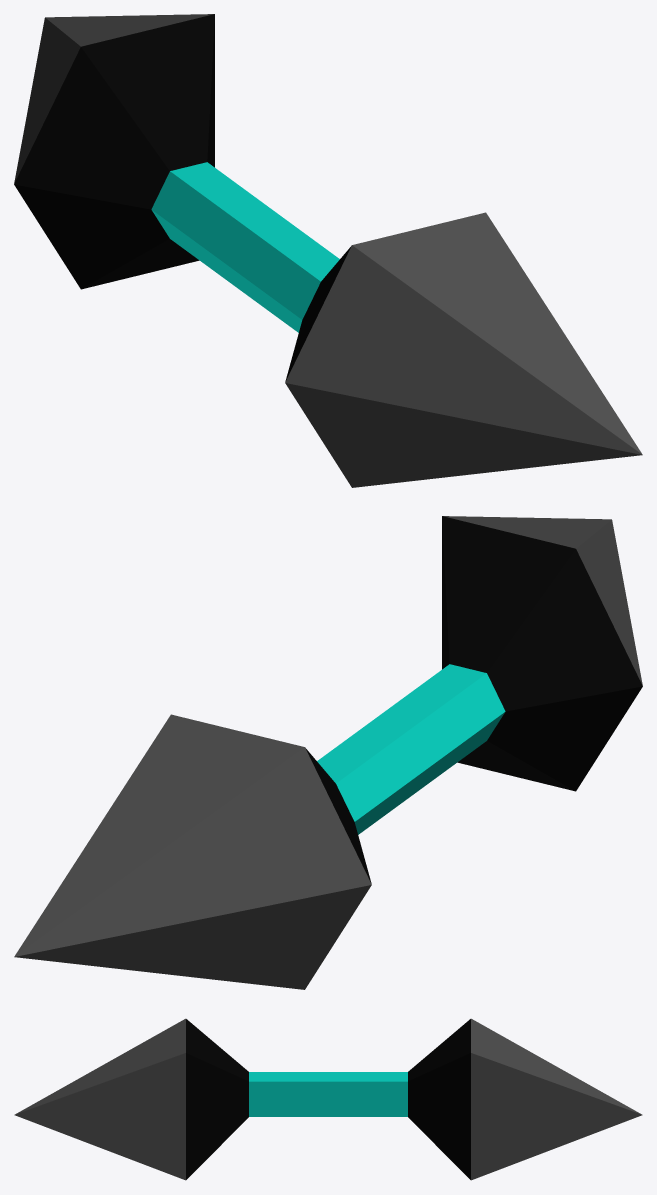
Rendered from Wall dec6.fbx.
3 renders of one model, top to bottom at view 1: azimuth 30°, elevation 25°; view 2: azimuth 150°, elevation 25°; view 3: azimuth 270°, elevation 25°, orthographic. The views are drawn at different scales.
Parts seen in each view (by area): view 1: Cone.002; view 2: Cone.002; view 3: Cone.002.
Part boxes in pixels (bbox=[...]): Cone.002: bbox=[14, 14, 642, 487]; Cone.002: bbox=[14, 516, 642, 989]; Cone.002: bbox=[14, 1018, 642, 1180].
Bounding box in the file's own units: 46.06 × 53.19 × 237.
